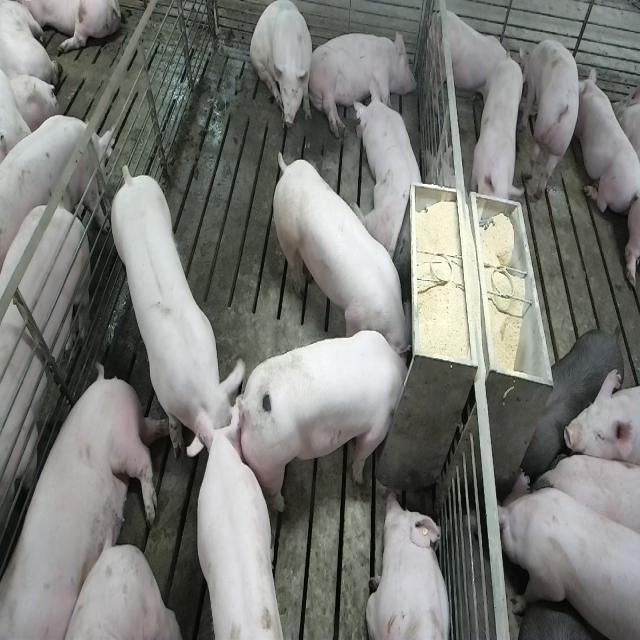Feeding: (244, 330, 418, 513), (268, 142, 412, 359)
Lateral_lying: (2, 365, 168, 640), (308, 27, 417, 141)
Sitting: (466, 40, 522, 236), (250, 2, 315, 138)
Standing: (109, 155, 248, 458), (0, 195, 92, 640), (497, 478, 638, 640), (188, 418, 282, 640), (519, 326, 628, 484), (0, 109, 110, 254), (522, 35, 582, 201)
Sternal_lying: (365, 490, 452, 640), (354, 88, 428, 260), (577, 65, 638, 216)
